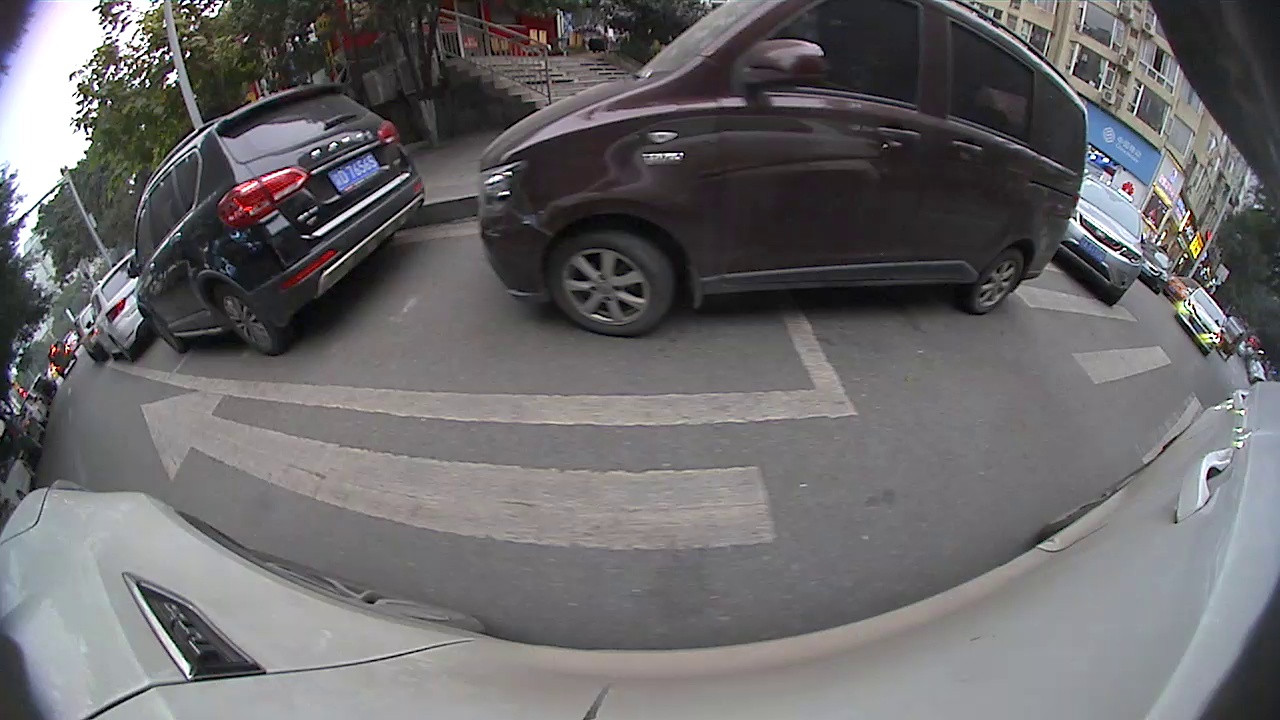car: (473, 4, 1089, 347), (122, 79, 430, 360), (1050, 174, 1150, 310), (86, 244, 152, 364), (1170, 281, 1232, 362)
front: (552, 231, 672, 338)
rear: (214, 292, 285, 353), (969, 247, 1030, 315)
